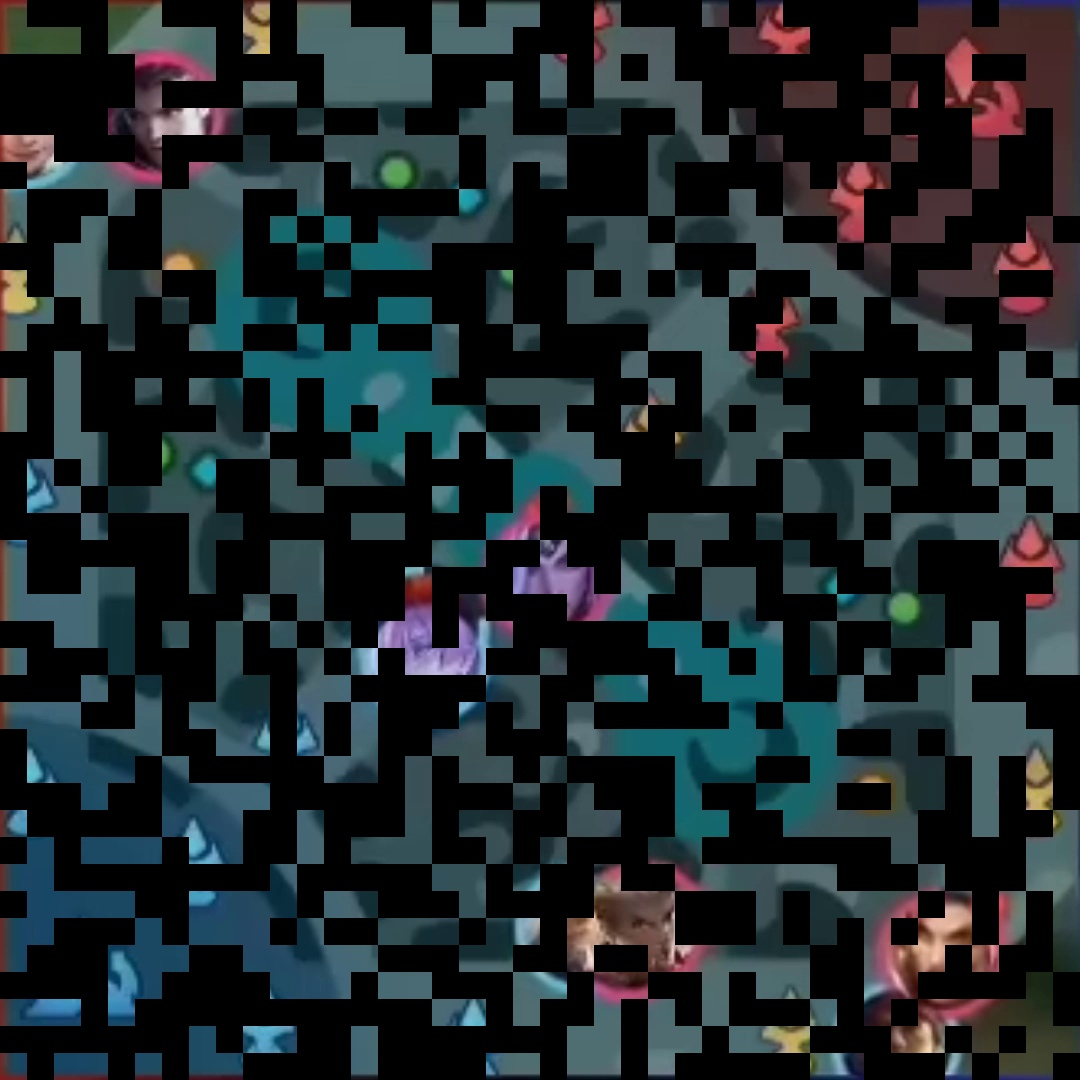Chou: (598, 870, 699, 977)
Claude: (109, 68, 214, 173)
Fredrinn: (522, 872, 602, 985)
Lapu-Lapu: (840, 991, 948, 1080)
Masha: (897, 908, 1004, 1013)
Novaria: (377, 615, 482, 713)
Valentina: (498, 523, 609, 632)
Wanwan: (4, 64, 80, 179)
